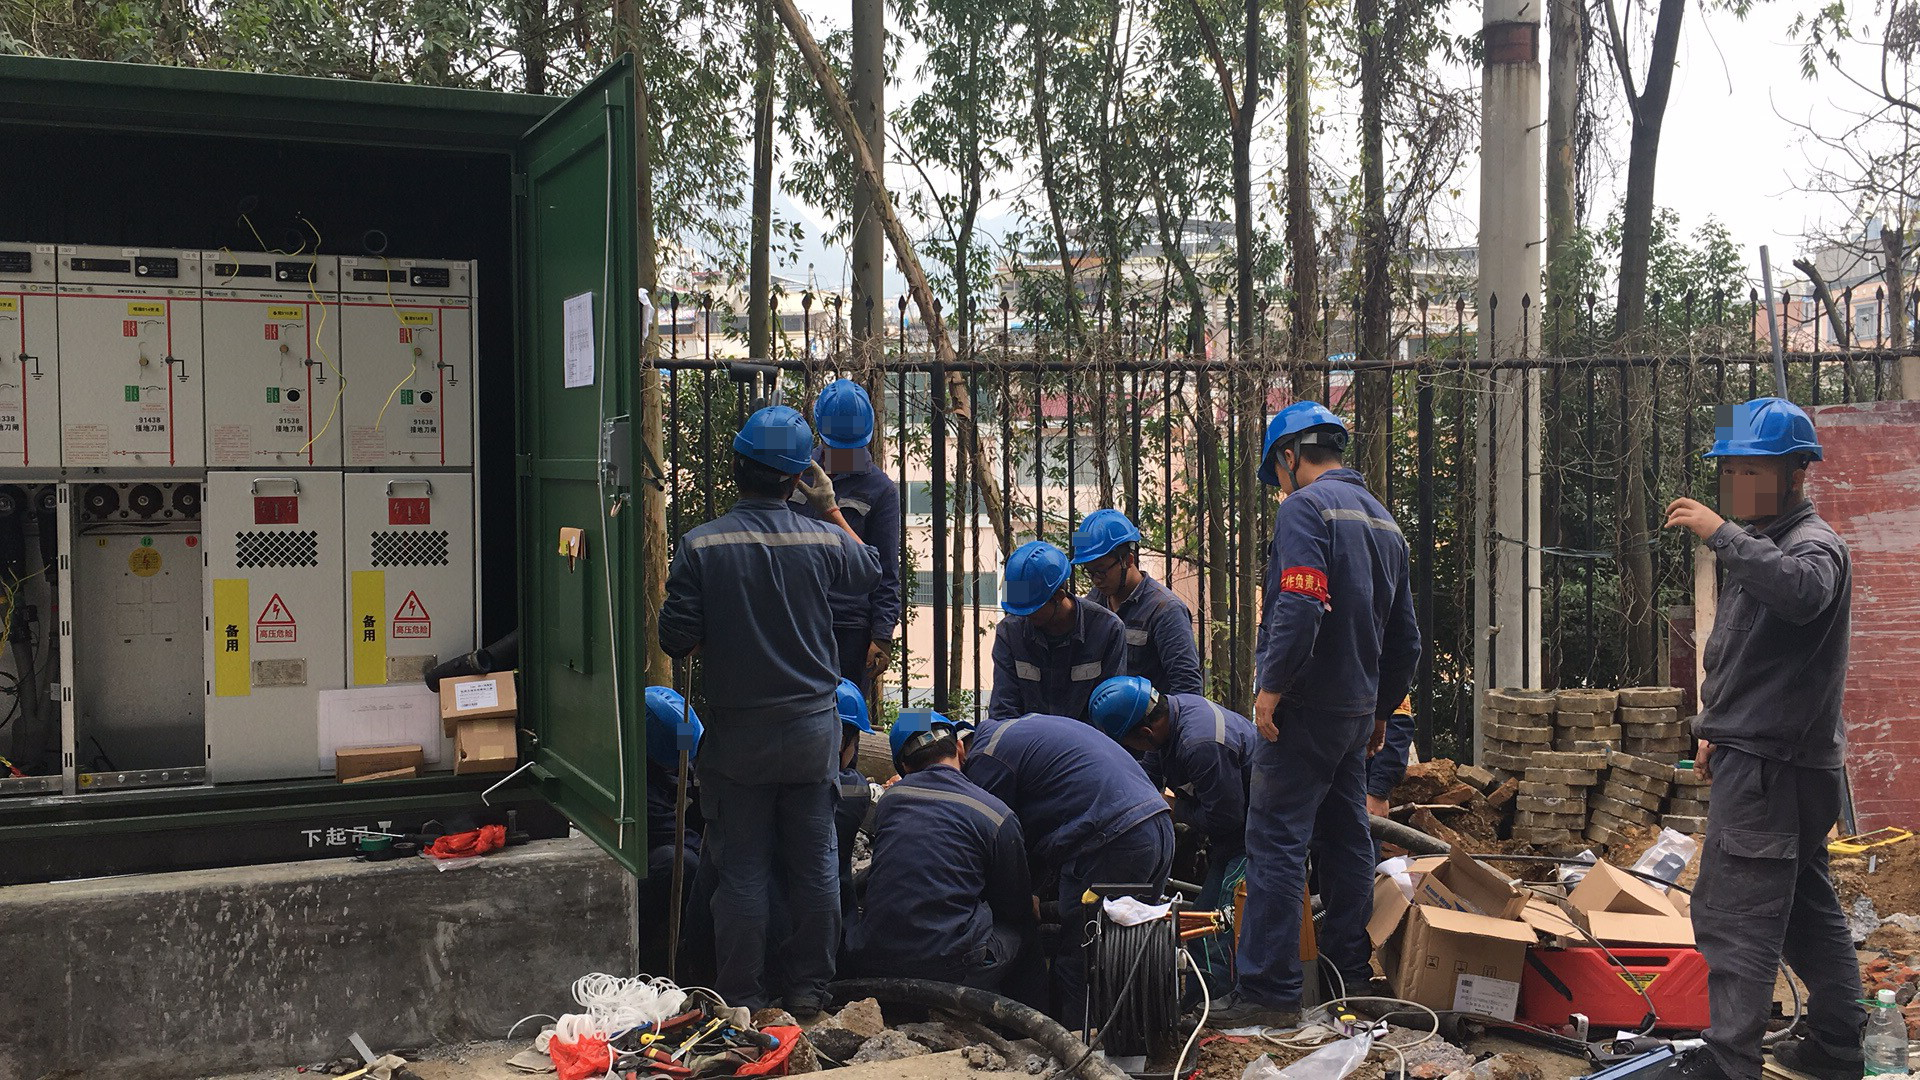badge: (1280, 560, 1333, 610)
downcloth: (1692, 768, 1859, 1064)
downsuit: (687, 758, 844, 1000), (1237, 732, 1373, 980), (1061, 809, 1172, 940)
halt: (1706, 396, 1825, 518), (728, 401, 818, 508), (1260, 399, 1353, 488), (999, 539, 1075, 619), (1074, 509, 1147, 590), (812, 380, 879, 466), (644, 686, 706, 777), (889, 708, 966, 772), (1087, 672, 1161, 739), (834, 678, 875, 775)
hand: (1663, 494, 1725, 544), (1252, 688, 1284, 742)
inear: (1272, 441, 1303, 494)
person: (654, 398, 882, 1018), (1664, 392, 1865, 1079), (1239, 395, 1433, 1019), (976, 708, 1186, 1078), (842, 706, 1039, 1051), (805, 377, 913, 692), (1069, 509, 1217, 731), (985, 539, 1109, 714)
upcloth: (1694, 513, 1856, 762)
upsuit: (657, 496, 887, 751), (1255, 470, 1425, 732), (852, 769, 1025, 983), (977, 710, 1180, 861), (988, 602, 1125, 718), (1073, 581, 1212, 694), (1155, 687, 1253, 813)
wglove: (806, 466, 840, 519)
wrongtop: (824, 500, 876, 559)
